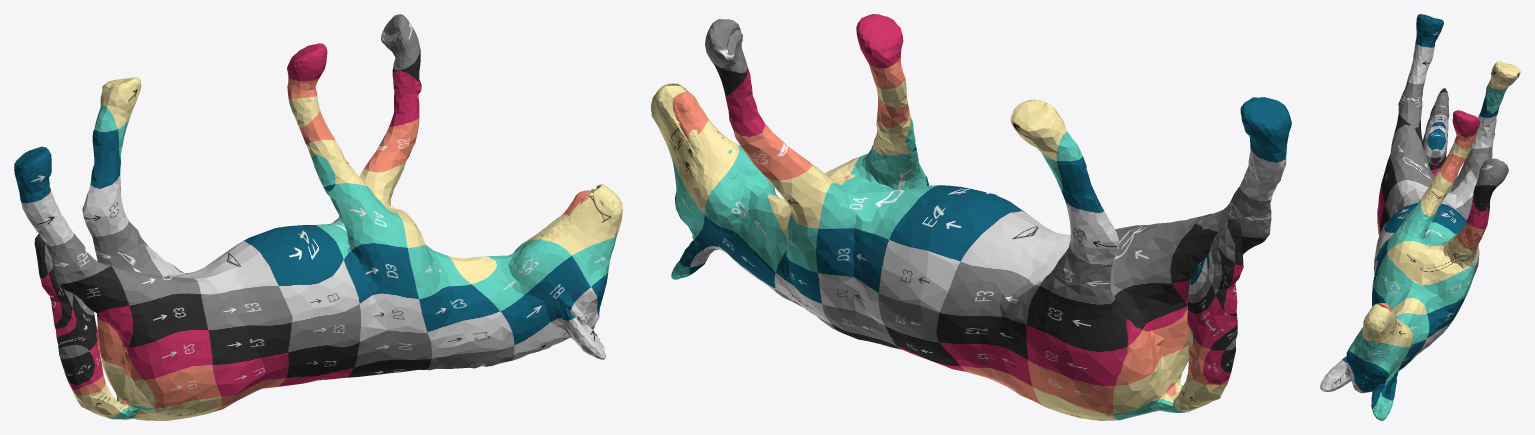
File: cow_03-horse_04.obj
The picture shows the model from 3 angles, left to right: view 1: azimuth 30°, elevation 25°; view 2: azimuth 150°, elevation 25°; view 3: azimuth 270°, elevation 25°; orthographic projection. The views are drawn at different scales.
Parts seen in each view (by area): view 1: cow_03-horse_04_export; view 2: cow_03-horse_04_export; view 3: cow_03-horse_04_export.
Part boxes in pixels (x1,y1,x2,y2): cow_03-horse_04_export: [14, 14, 622, 420]; cow_03-horse_04_export: [651, 14, 1291, 420]; cow_03-horse_04_export: [1320, 14, 1520, 420].
Bounding box in the file's own units: 1.09 × 0.5769 × 0.4582.
